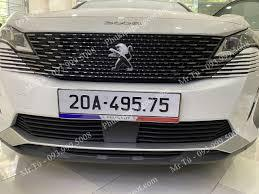numplate: (55, 86, 181, 124)
